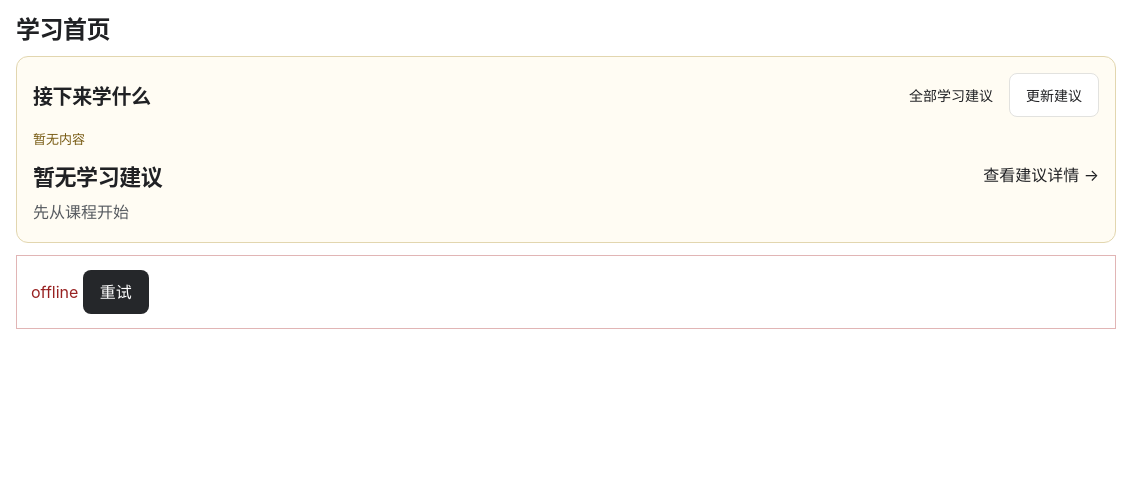
Test case: new student home › reports an unavailable backend and retries
expect the message shows "offline": met, box [31,282,78,302]
Click the button "重试": click(116, 292) [83,270,149,314]
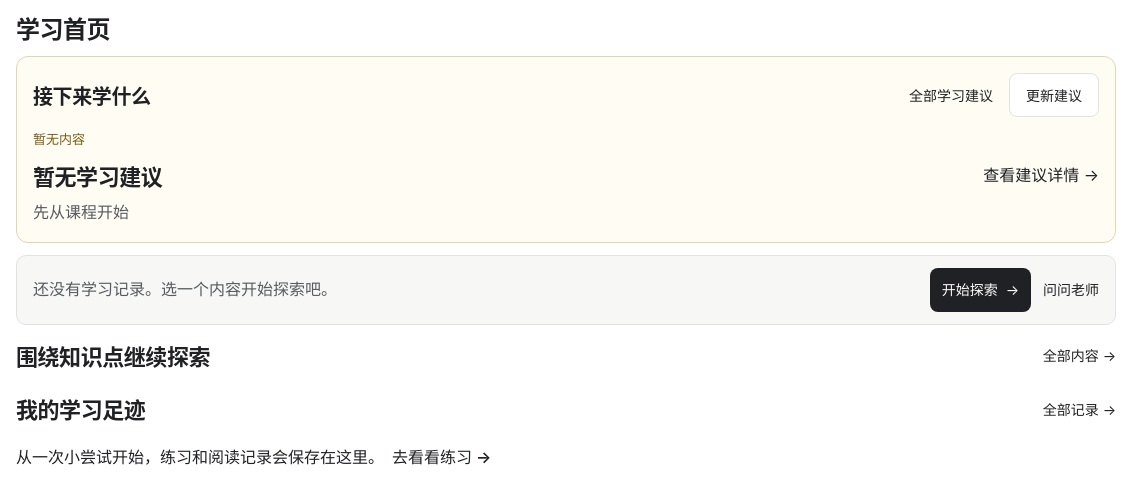
expect the message "offline 重试" is gone: met
